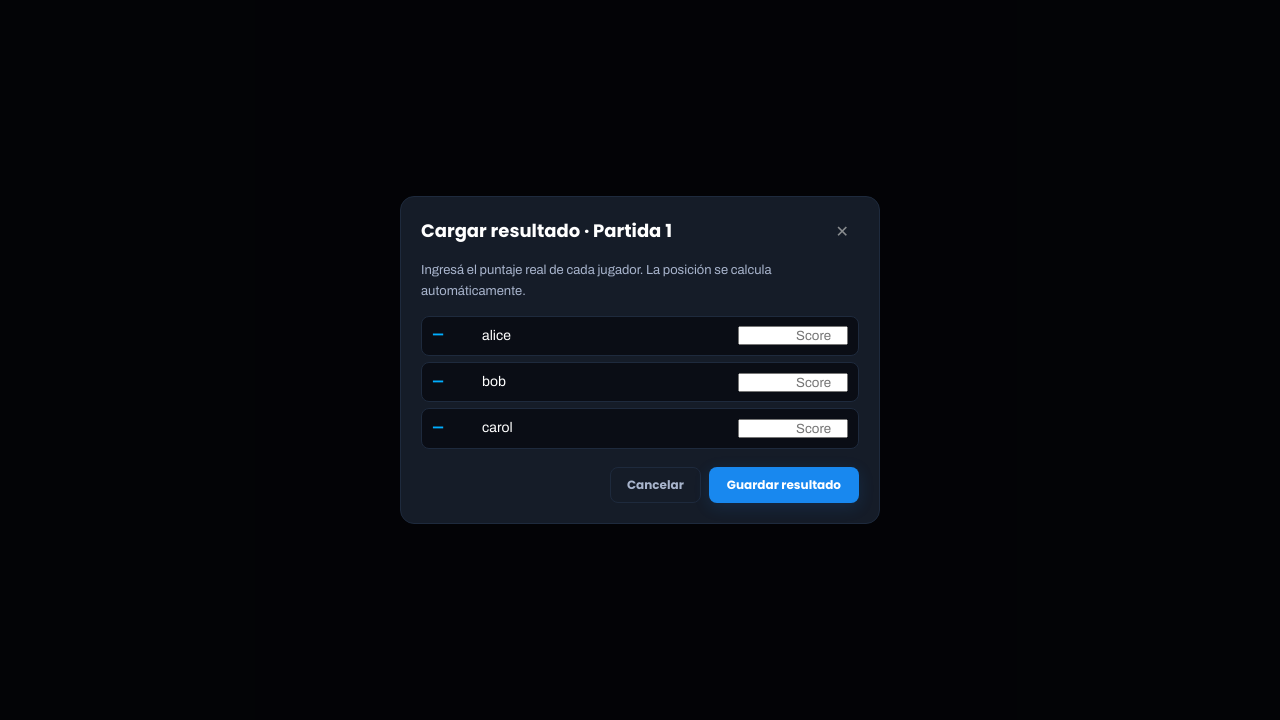
Test: <GameScoreModal> › shows validation error if any score is missing
The width and height of the screenshot is (1280, 720).
Type "5" into the number field with placeholder "Score" in the row of "alice" at (793, 336), box x1=738 y1=326 x2=848 y2=345
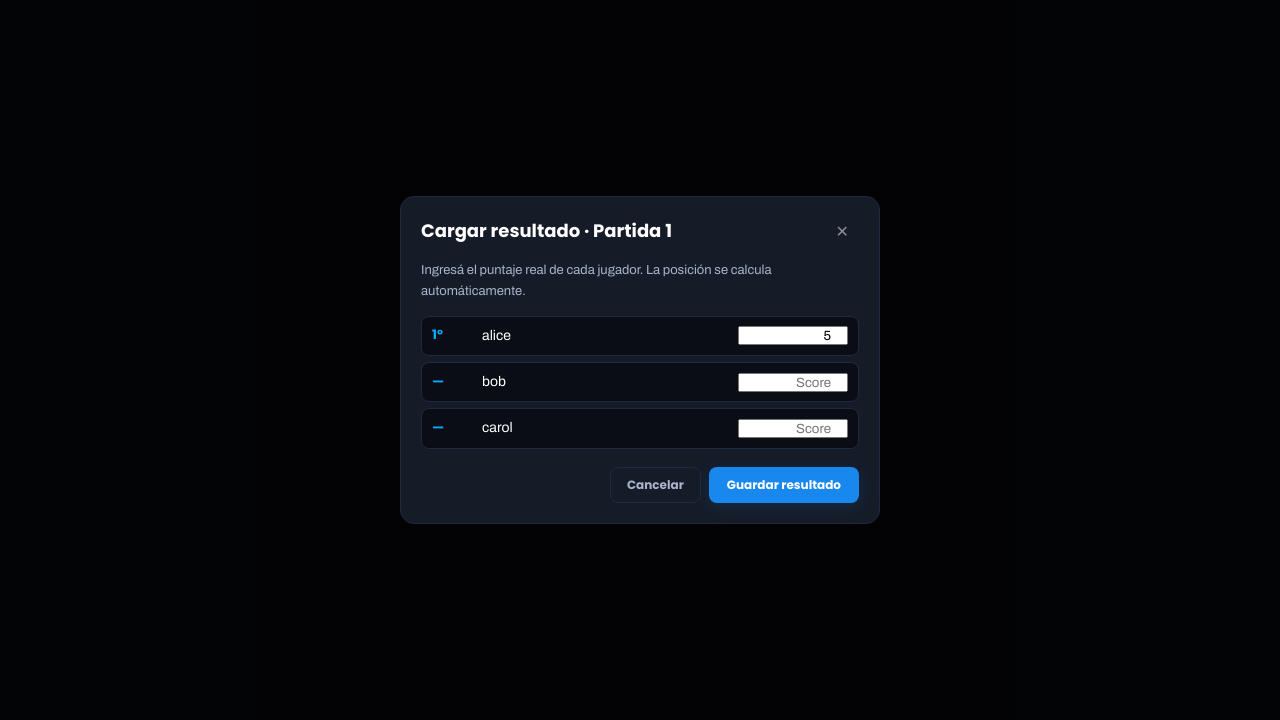
// leave others empty
Click the button "Guardar resultado" at (784, 485), box x1=709 y1=467 x2=859 y2=503
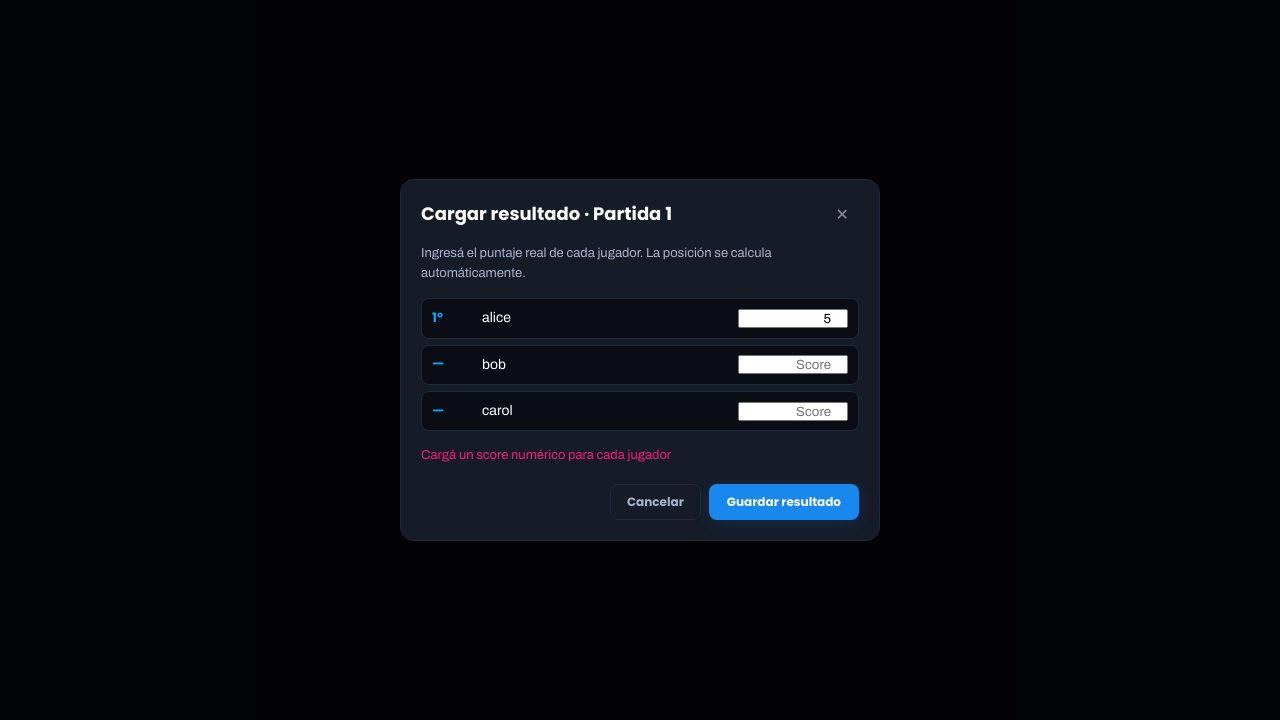
Now the text "Cargá un score numérico para cada jugador" is shown, box x1=421 y1=448 x2=671 y2=462
